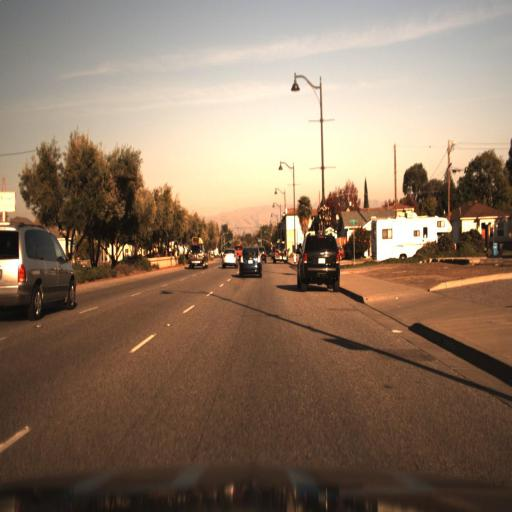car: (0, 208, 83, 339), (296, 224, 347, 299), (232, 239, 267, 292), (183, 234, 214, 281), (216, 240, 239, 275), (273, 241, 289, 267), (258, 240, 270, 267)
truck: (367, 209, 455, 260)
